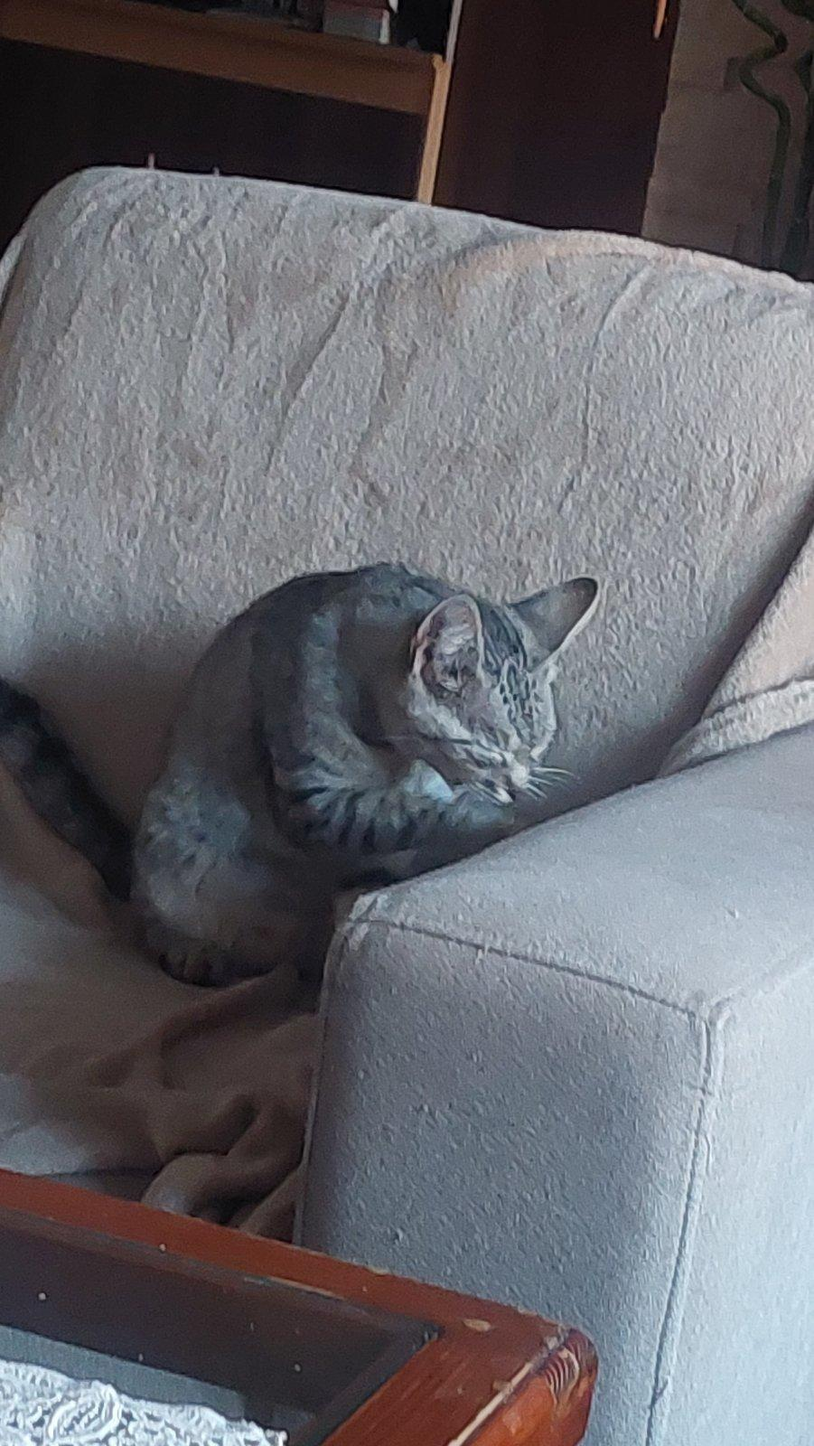macka: (0, 559, 601, 987)
